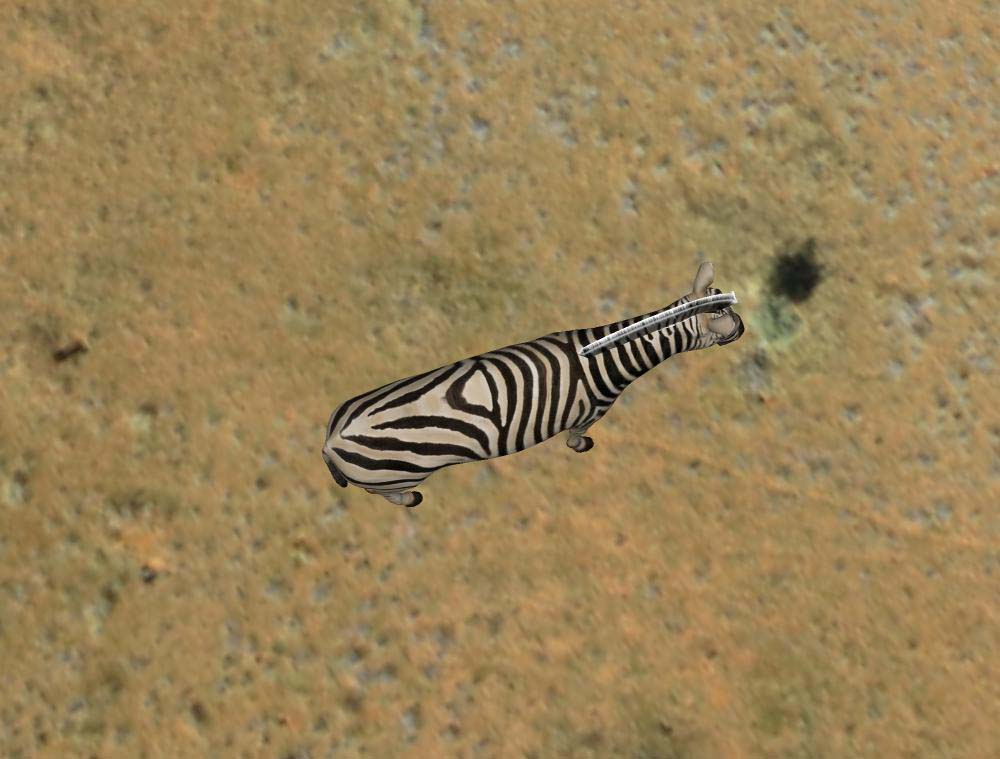zebra: (323, 257, 747, 522)
